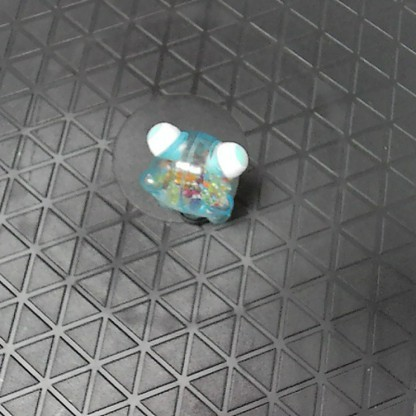bluefish: (138, 118, 251, 227)
